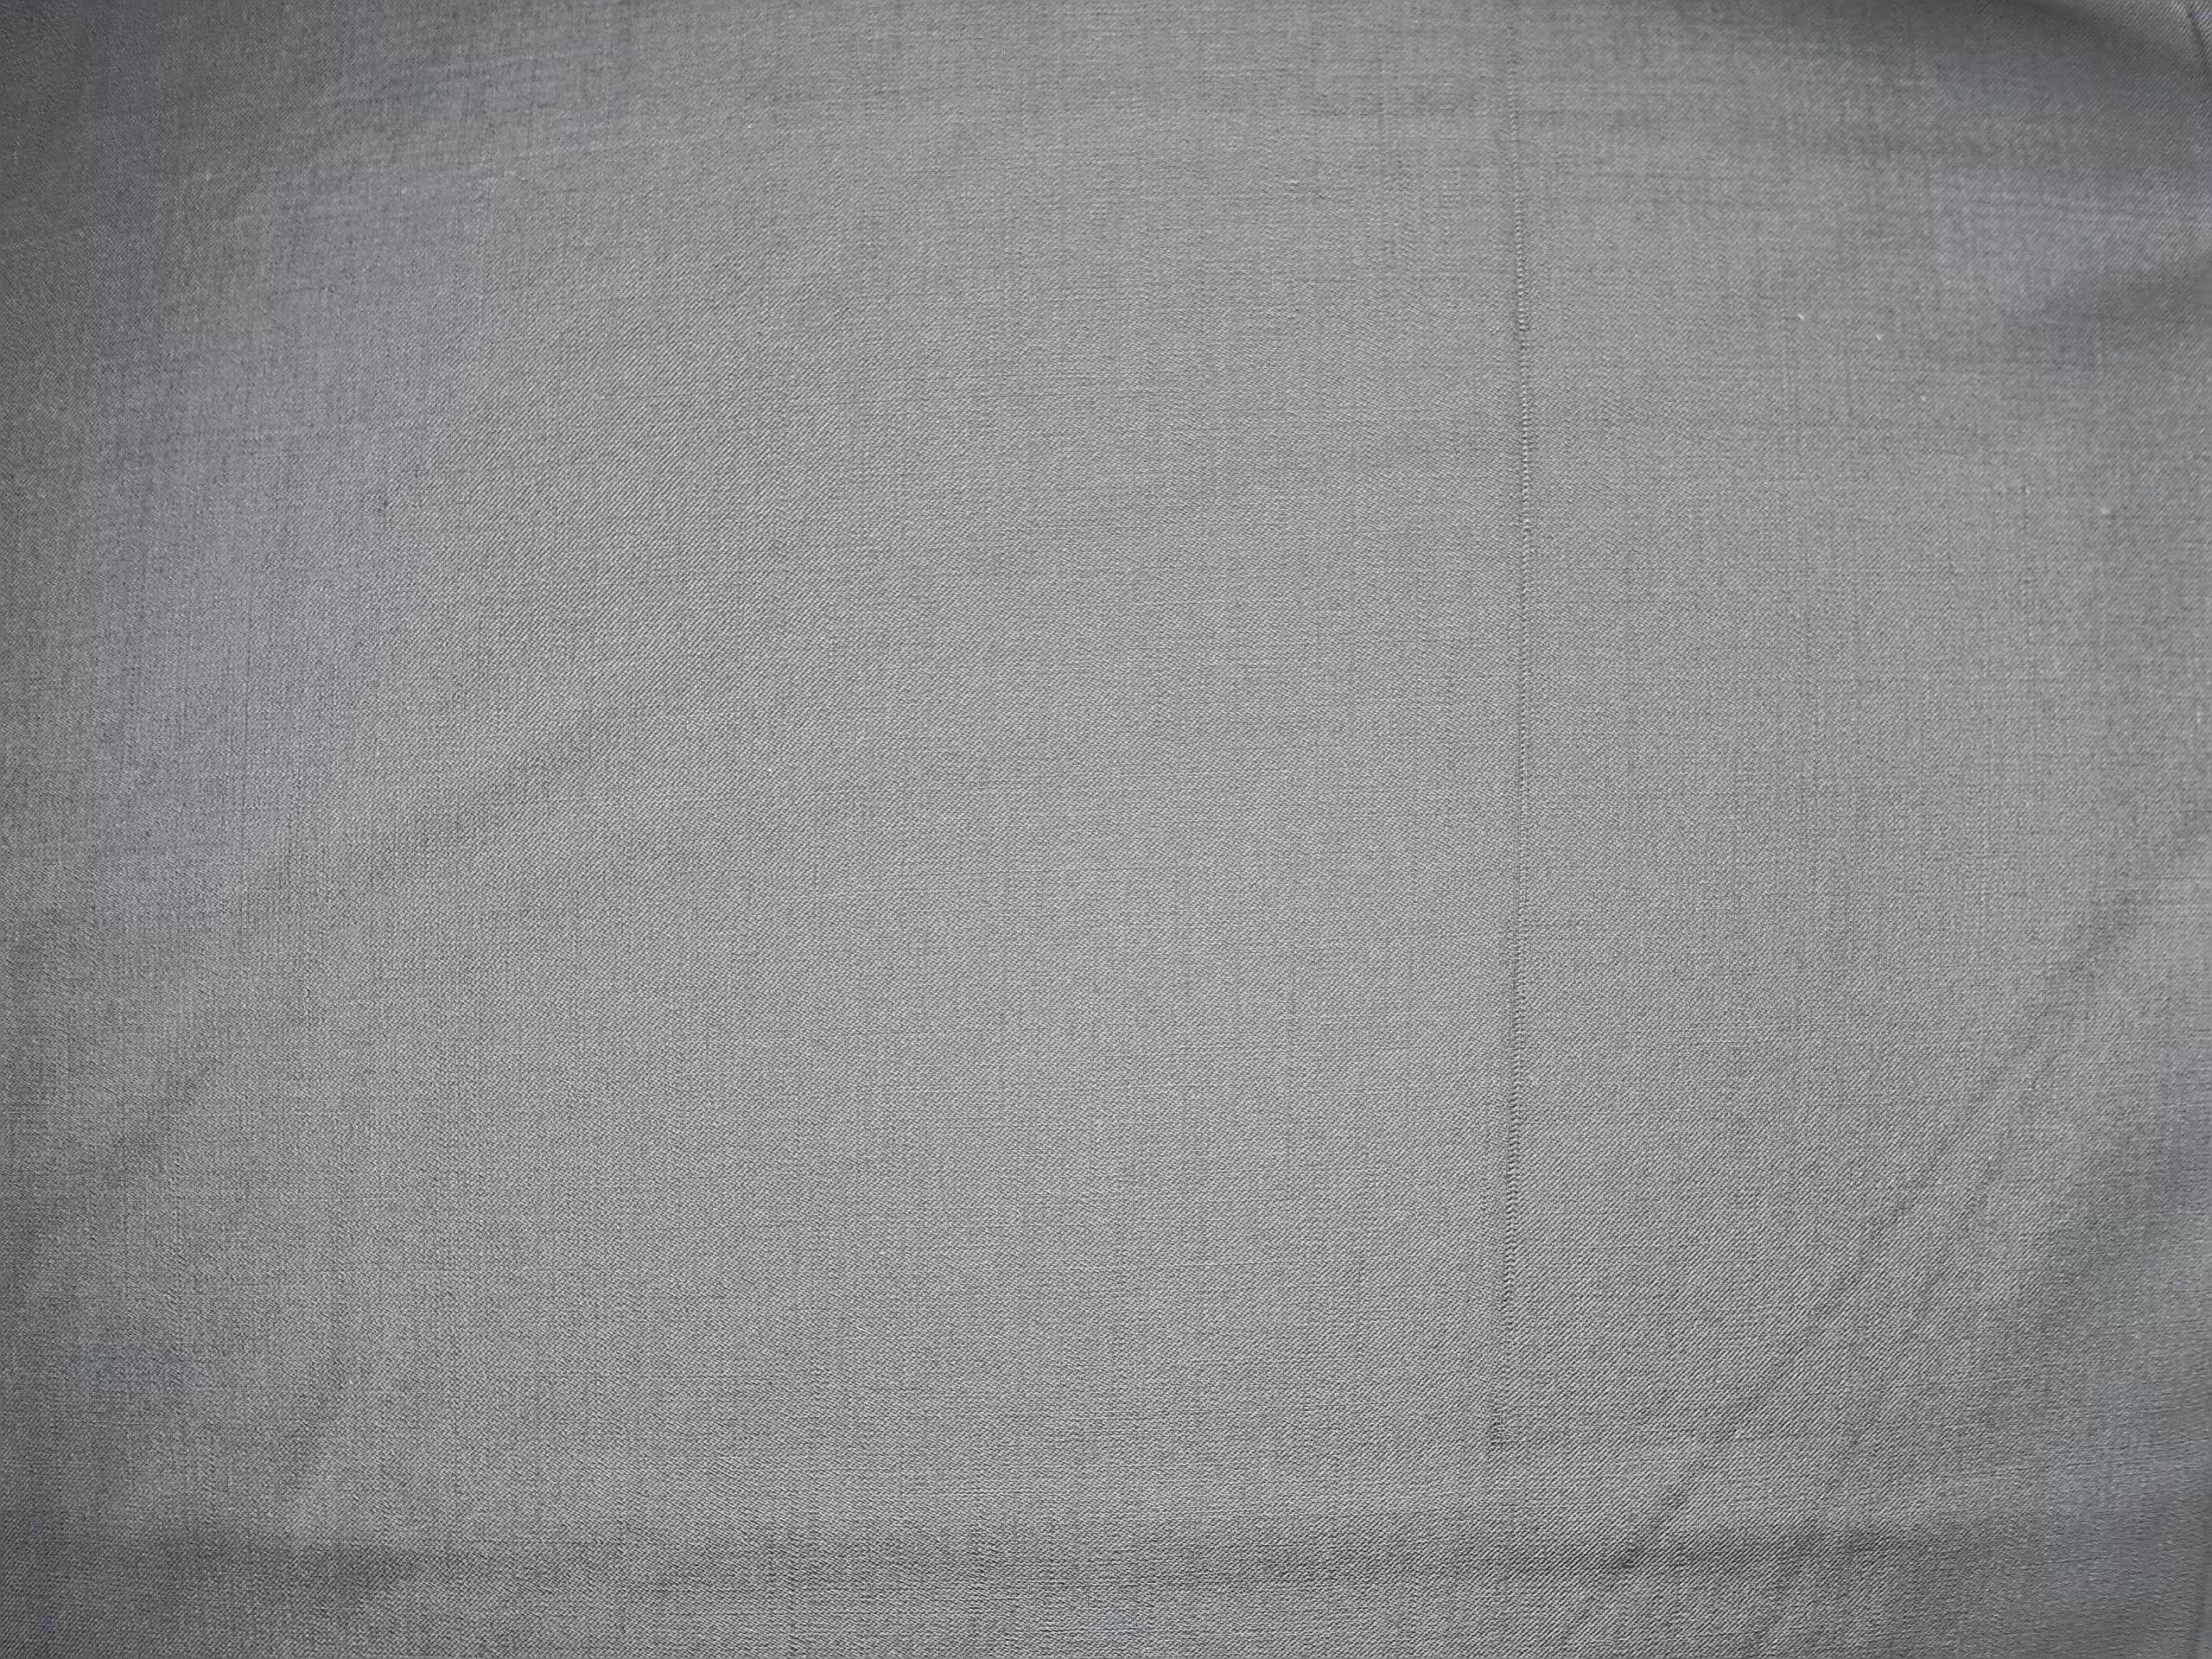others: (1475, 49, 1561, 1389)
